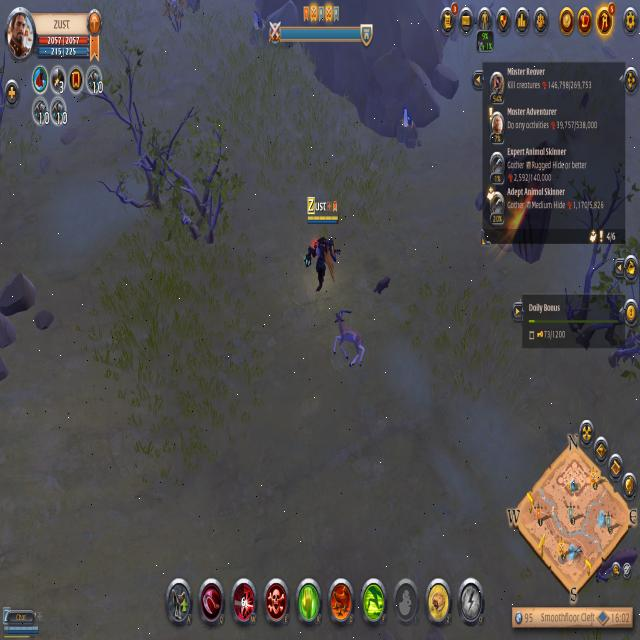deer_dead: (330, 300, 374, 379)
